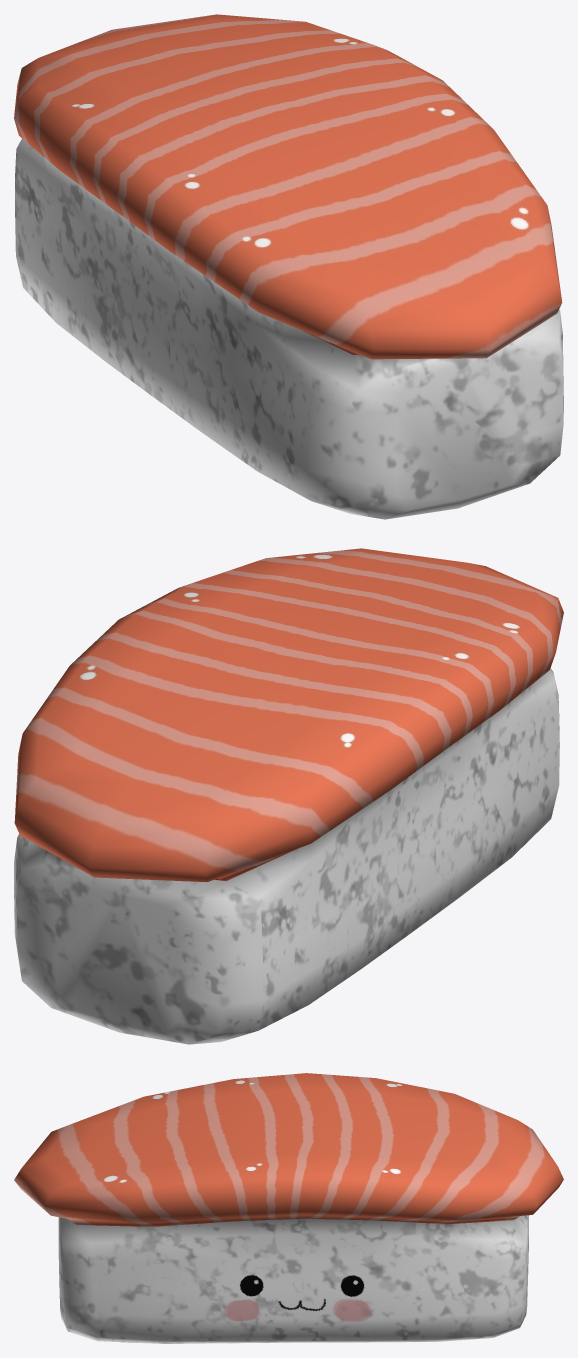
Rendered from nigiri fbx- pozitivni lik.fbx.
3 renders of one model, top to bottom at view 1: azimuth 30°, elevation 25°; view 2: azimuth 150°, elevation 25°; view 3: azimuth 270°, elevation 25°, orthographic. The views are drawn at different scales.
Parts seen in each view (by area): view 1: nigiri; view 2: nigiri; view 3: nigiri.
Boxes of the visible parts, bbox=[...] form: nigiri: bbox=[14, 14, 563, 519]; nigiri: bbox=[14, 548, 563, 1044]; nigiri: bbox=[14, 1073, 563, 1343].
Size of the model in its own units: 18.38 by 14.48 by 37.03.
Materials: 1 (1 with a texture image).
